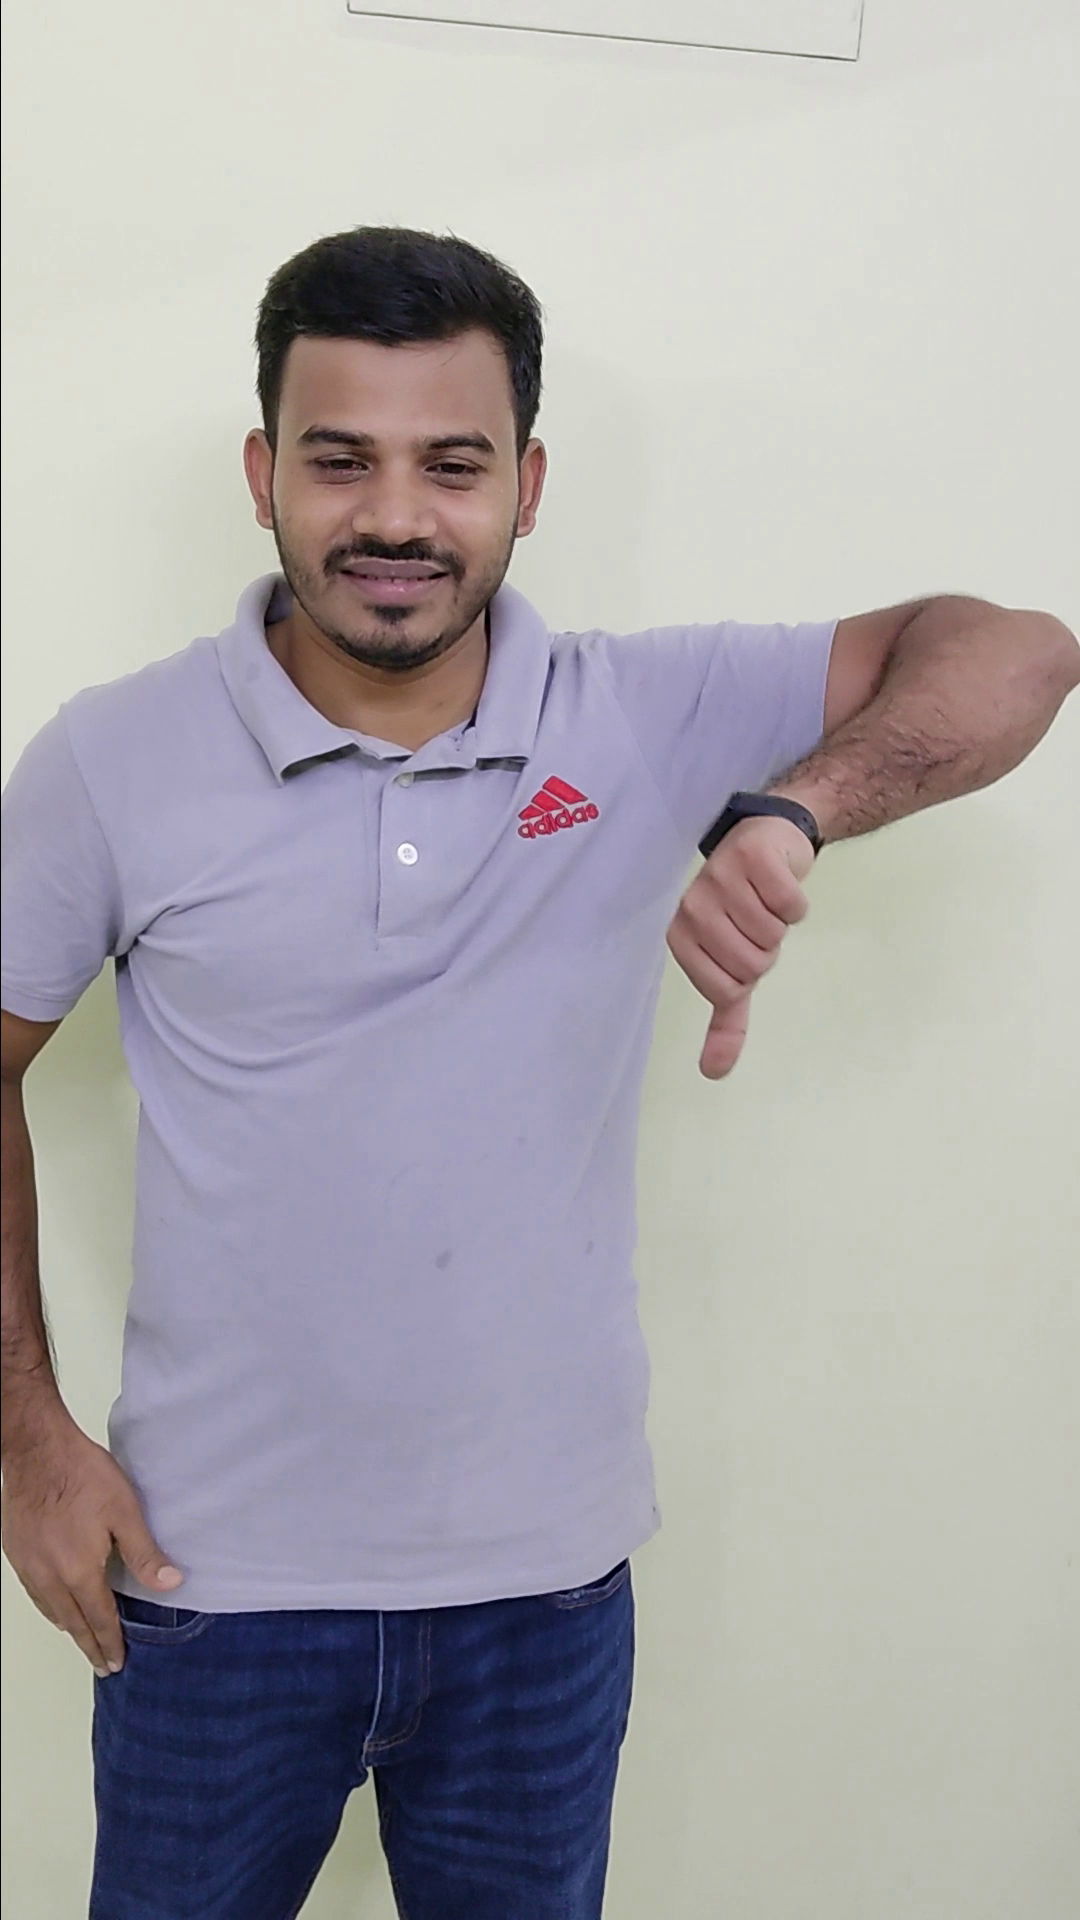Dislike: (607, 774, 857, 1102)
None: (3, 1389, 191, 1680)
